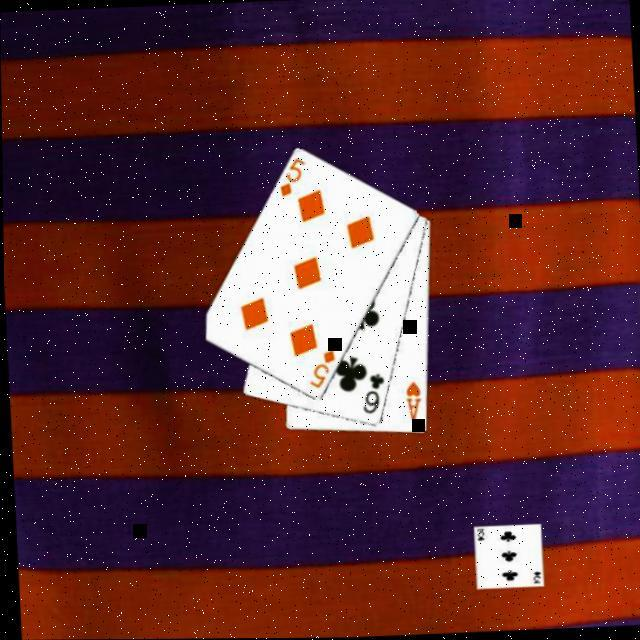5D: (304, 348, 340, 392), (275, 156, 310, 201)
6C: (357, 372, 388, 419)
AH: (400, 380, 425, 425)
